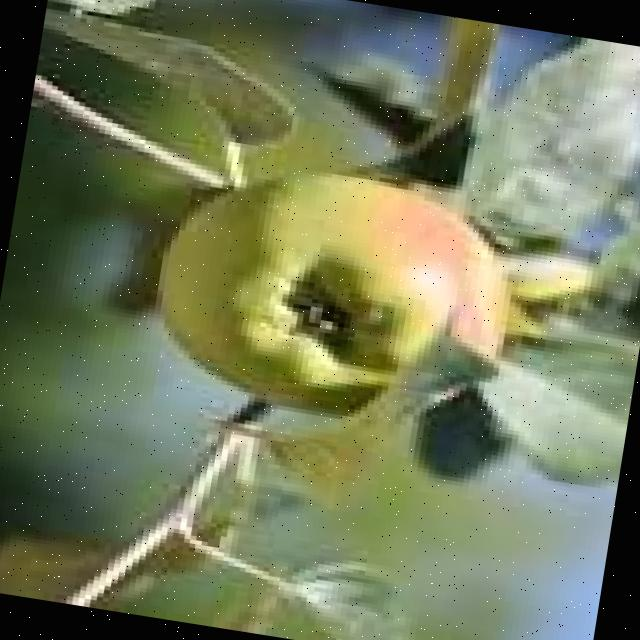Unripe: (136, 148, 527, 442)
